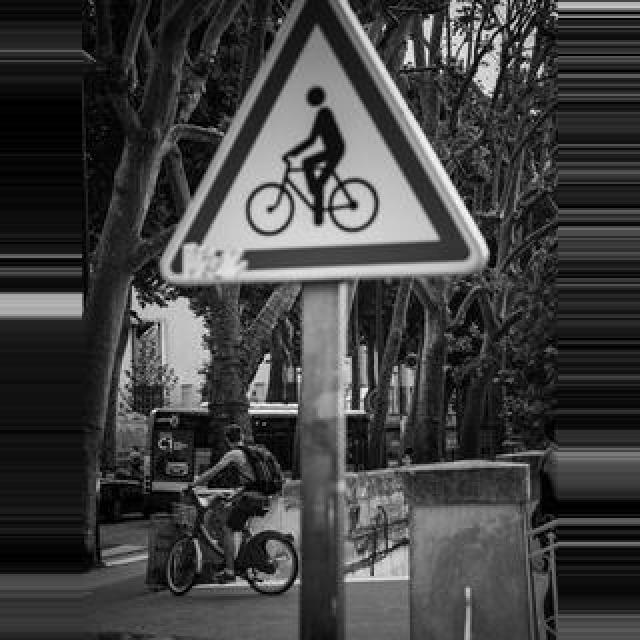MC-Bike: (190, 424, 276, 586), (280, 86, 346, 224)
Person: (166, 490, 300, 600), (246, 156, 380, 234)
